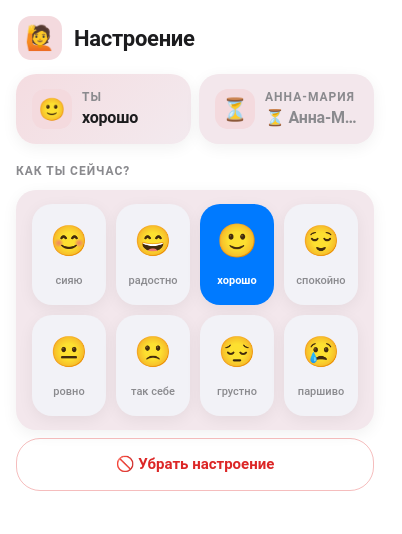
Test: Mood — partner name preservation + error surfacing › surfaces an inline error when clear() fails after a self-mood is set
The image size is (402, 534).
Click the button "🚫 Убрать настроение": (195, 464) [16,438,374,490]
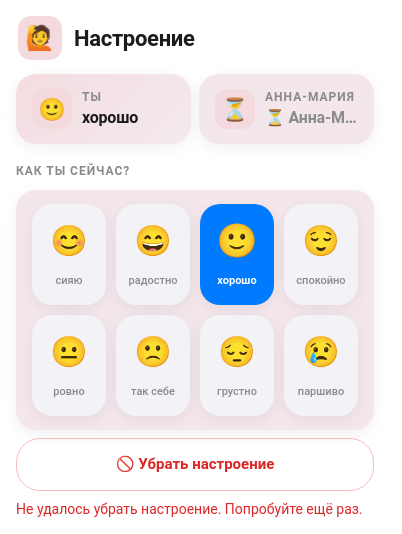
expect the message shows "Не удалось убрать настроение": met, box [16,500,363,516]
